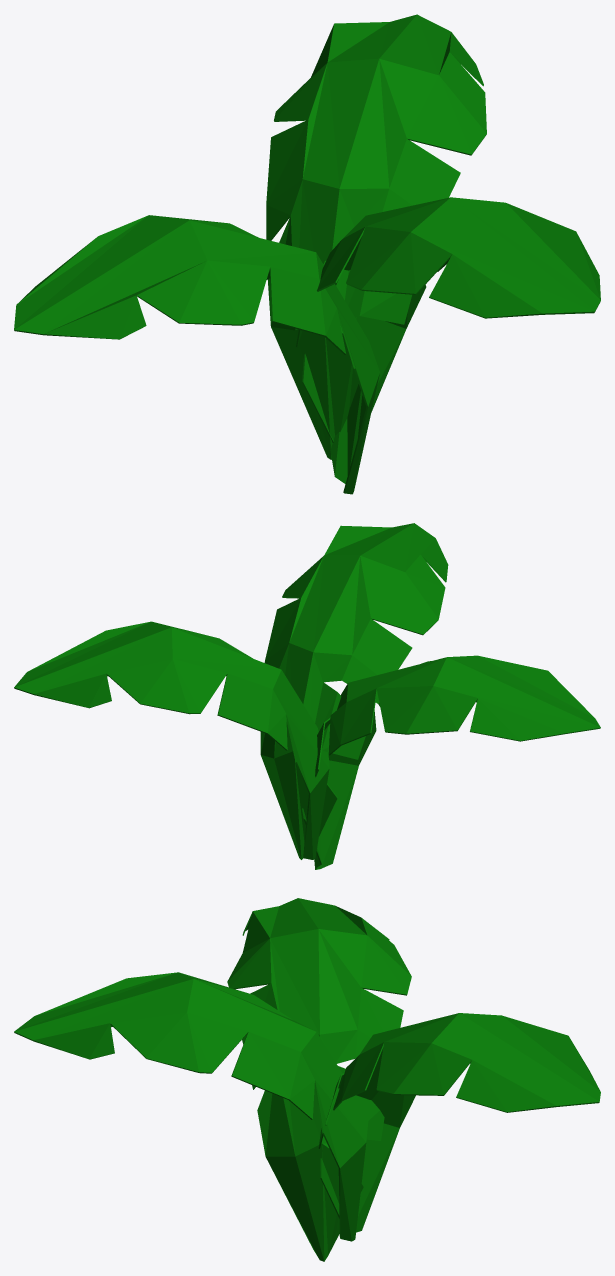
File: testPlant 2.fbx
3 views of the same model, one above another, from view 1: azimuth 30°, elevation 25°; view 2: azimuth 150°, elevation 25°; view 3: azimuth 270°, elevation 25° (orthographic). The views are drawn at different scales.
Visible parts, largest first — view 1: Plane202; view 2: Plane202; view 3: Plane202.
Boxes of the visible parts, left/top/right/bottom form: Plane202: left=14, top=14, right=600, bottom=494; Plane202: left=14, top=523, right=600, bottom=869; Plane202: left=14, top=898, right=600, bottom=1261.
Bounding box in the file's own units: 13.18 × 7.41 × 13.49.
